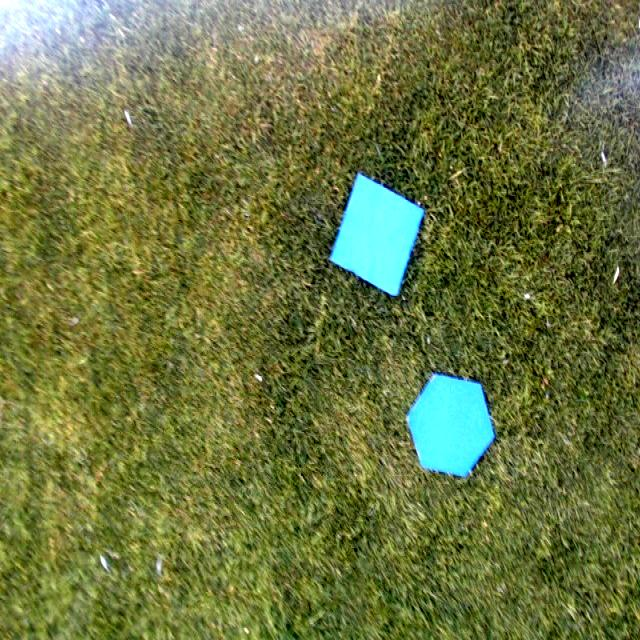blue_hexagon: (406, 372, 496, 478)
blue_square: (329, 173, 425, 297)
